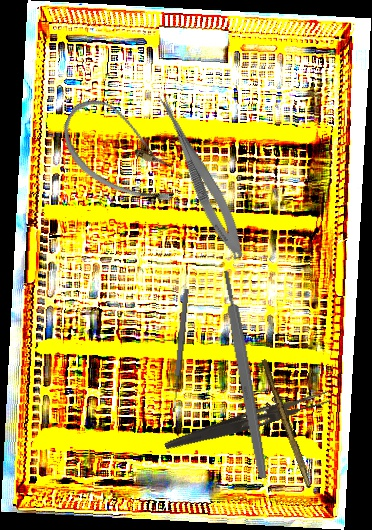Cannula: (47, 89, 198, 217)
Dressing Forceps: (163, 385, 331, 458)
Micro Scissor: (146, 88, 252, 263)
Scalpel Handle: (220, 269, 270, 480), (258, 358, 316, 489)
Surgical Spoon: (170, 288, 190, 413)
